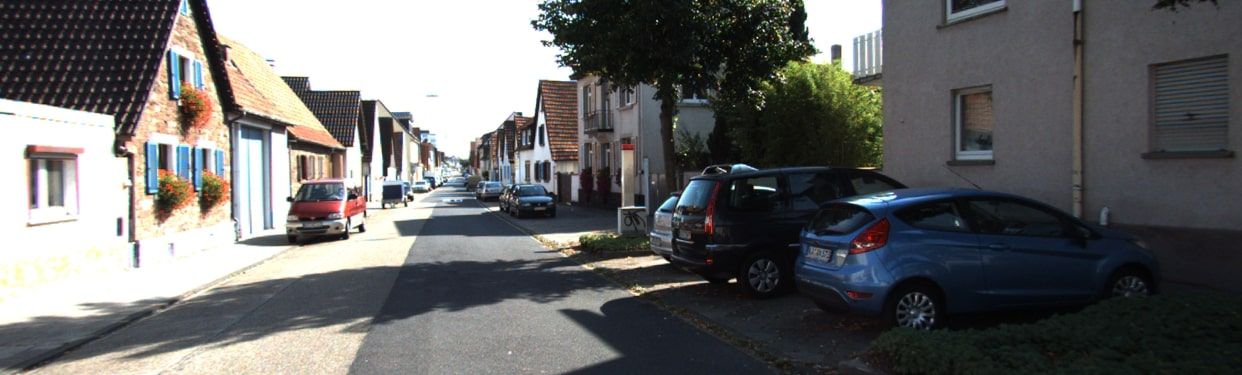car: (779, 187, 1163, 330), (667, 159, 820, 297), (276, 177, 374, 237), (497, 180, 557, 220)
